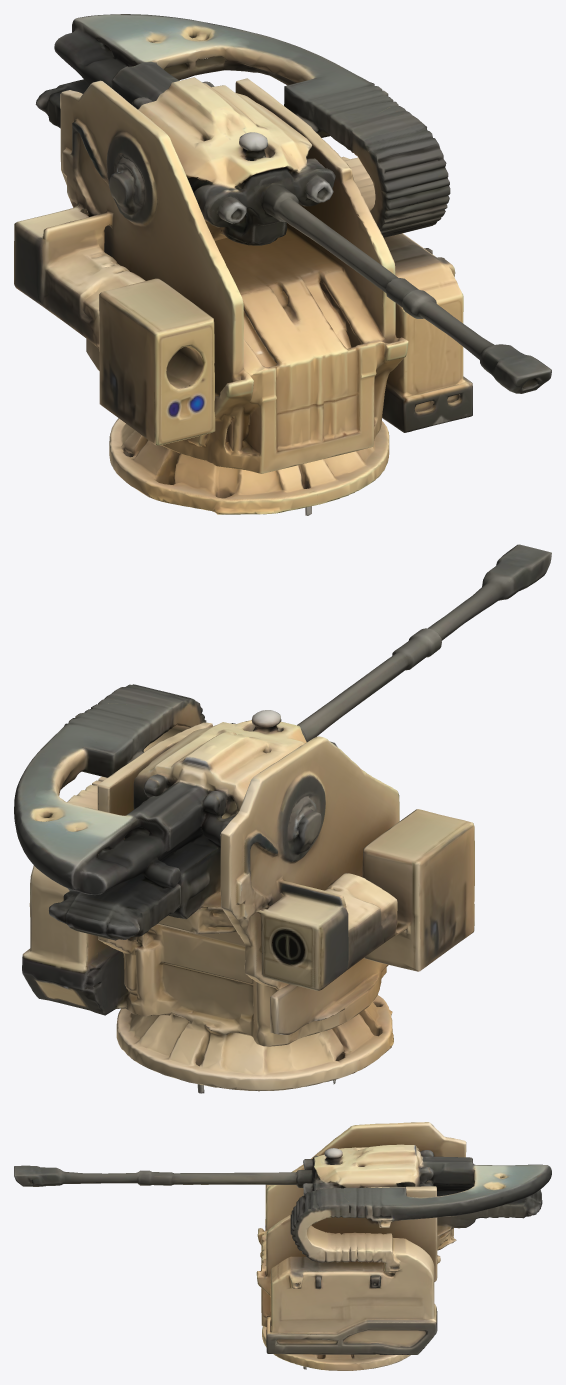
The model's file is Turret_level_1.glb.
3 views of the same model, one above another, from view 1: azimuth 30°, elevation 25°; view 2: azimuth 150°, elevation 25°; view 3: azimuth 270°, elevation 25° (orthographic). The views are drawn at different scales.
Parts seen in each view (by area): view 1: turret.jpg; view 2: turret.jpg; view 3: turret.jpg.
Boxes of the visible parts, box(x1,y1,x2,y2) form: turret.jpg: box(14, 14, 551, 515); turret.jpg: box(14, 544, 551, 1093); turret.jpg: box(14, 1122, 551, 1370).
Bounding box in the file's own units: 0.3966 × 0.4109 × 1.
1 material, 1 textured.
